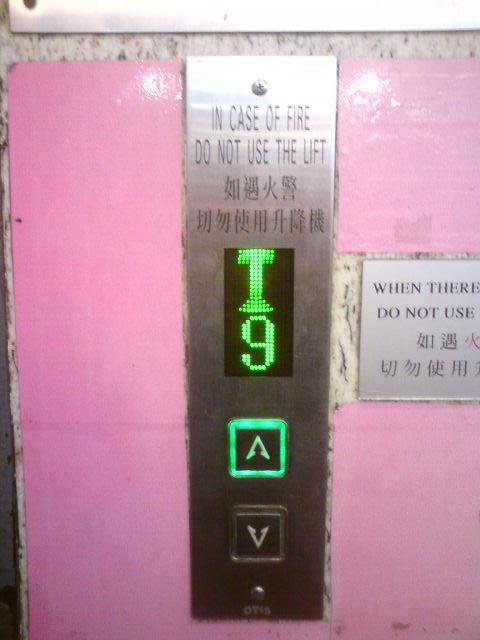down: (222, 501, 296, 571)
led: (221, 245, 298, 381)
up: (223, 416, 294, 484)
